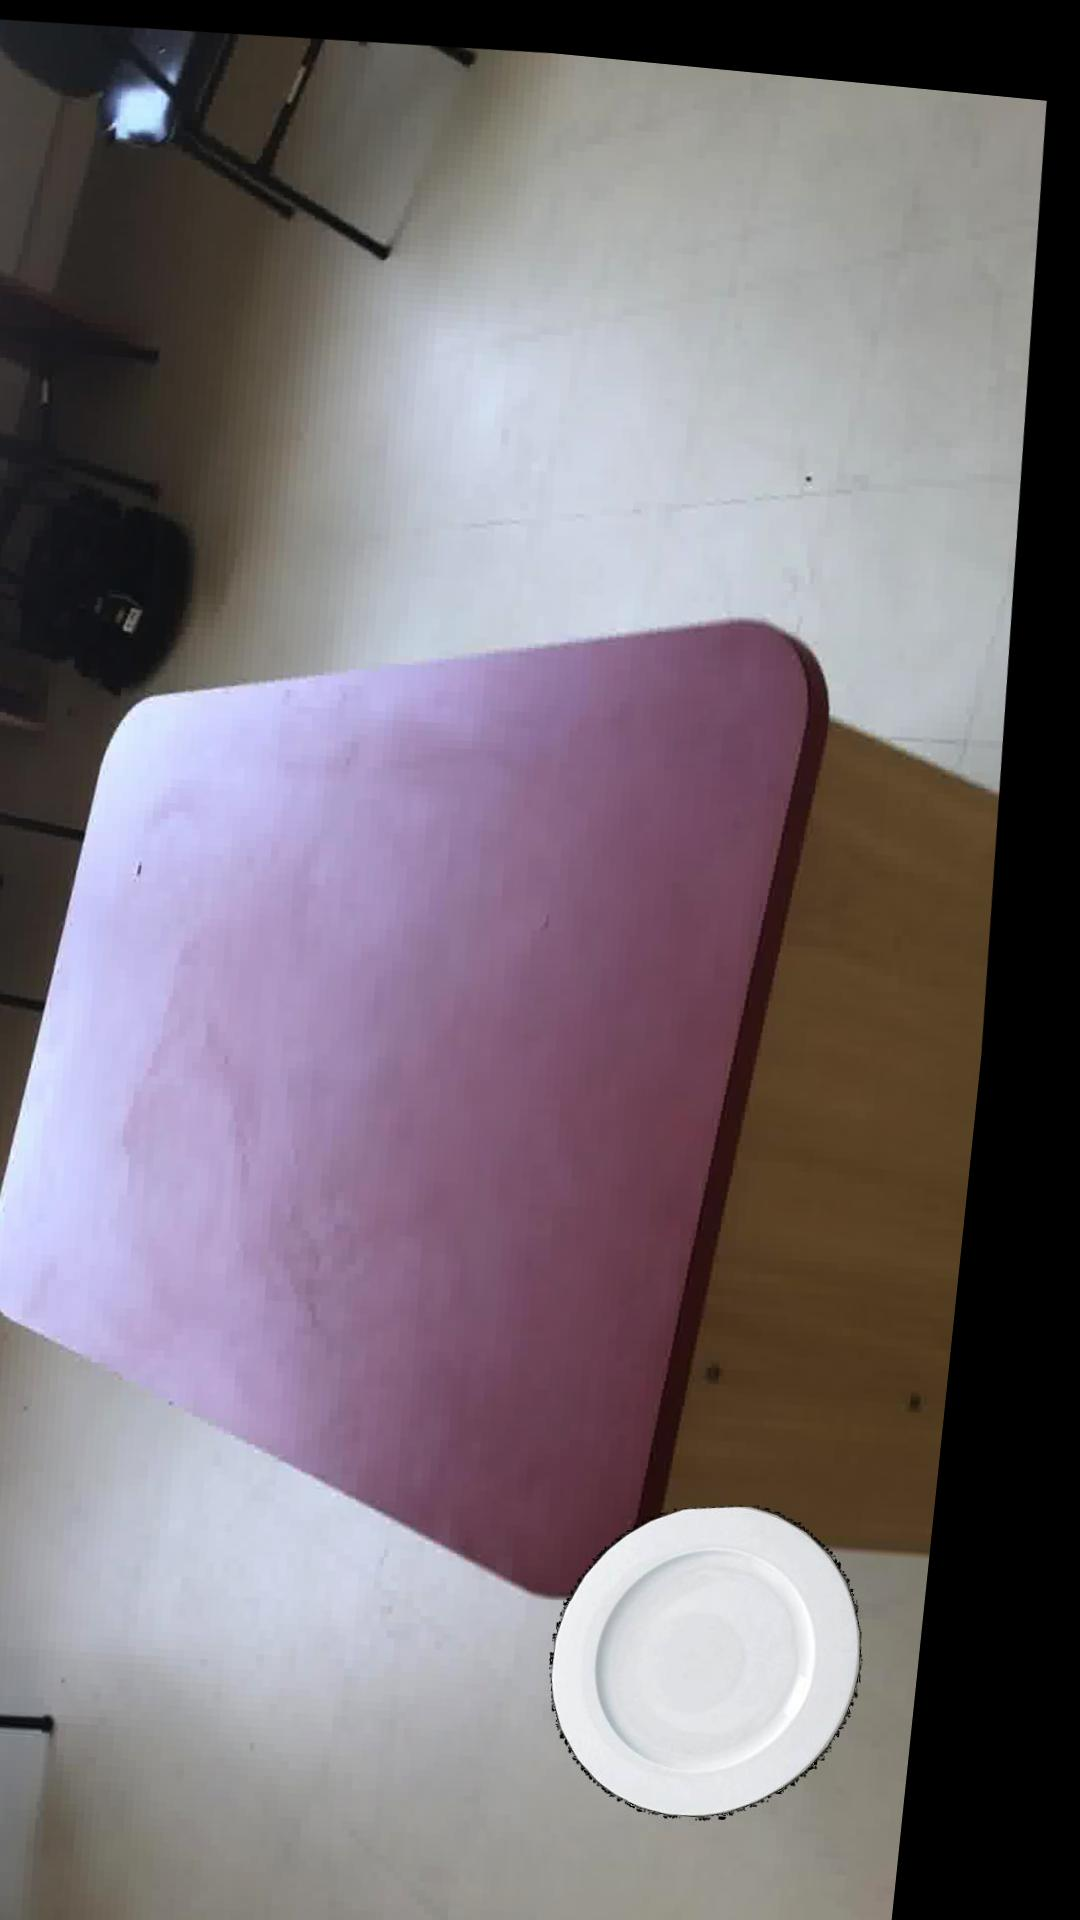plate: (584, 1487, 897, 1803)
